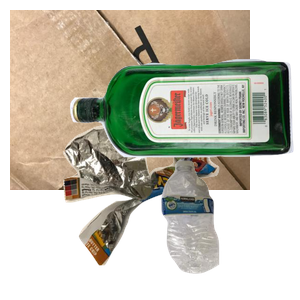cardboard: (10, 10, 250, 190)
glass: (67, 56, 300, 206)
plastic: (159, 158, 300, 300)
trash: (61, 123, 273, 300)
